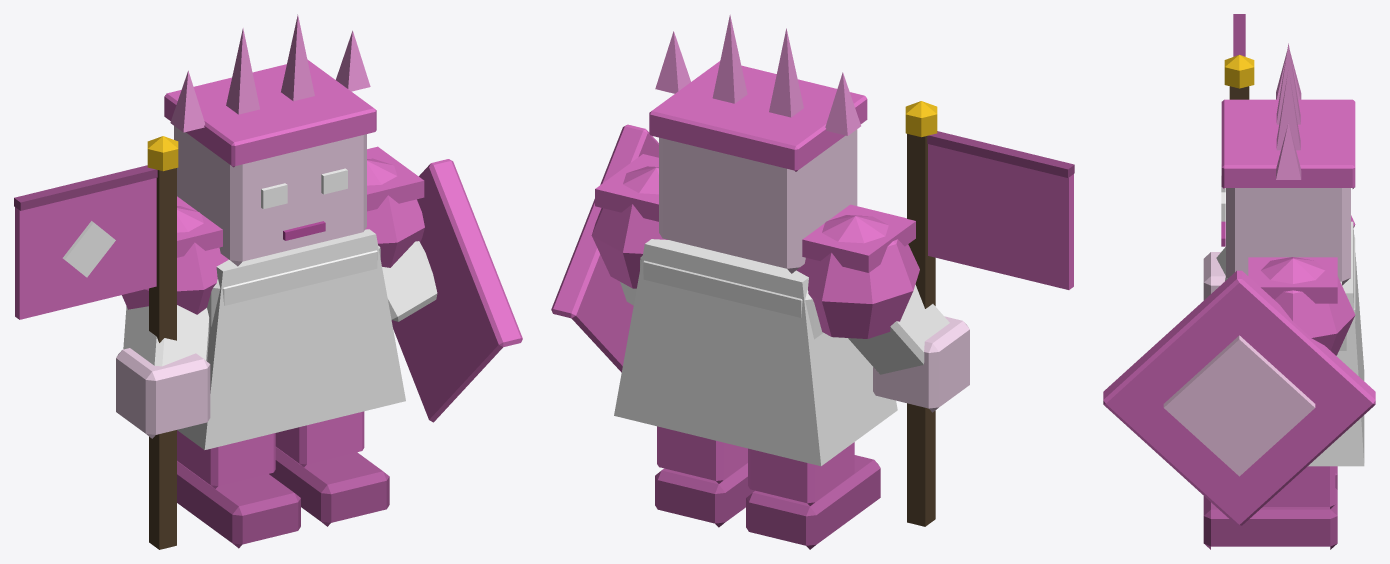
Rendered from r12_mini_gem_commander.glb.
The picture shows the model from 3 angles, left to right: view 1: azimuth 30°, elevation 25°; view 2: azimuth 150°, elevation 25°; view 3: azimuth 270°, elevation 25°; orthographic projection. The views are drawn at different scales.
Visible parts, largest first — view 1: r12_mini_gem_commander_mesh; view 2: r12_mini_gem_commander_mesh; view 3: r12_mini_gem_commander_mesh.
Part boxes in pixels (<box>): r12_mini_gem_commander_mesh: <box>14,14,522,549</box>; r12_mini_gem_commander_mesh: <box>551,14,1074,549</box>; r12_mini_gem_commander_mesh: <box>1103,14,1375,549</box>.
Size of the model in its own units: 4.45 by 4.6 by 2.47.
1 material, 1 textured.
